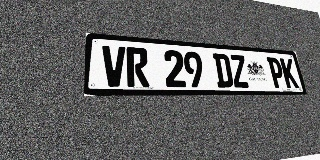2: (163, 50, 186, 87)
9: (183, 51, 205, 87)
D: (213, 53, 234, 88)
K: (280, 58, 299, 88)
P: (266, 57, 286, 88)
R: (126, 47, 150, 87)
V: (102, 45, 126, 87)
Z: (229, 54, 250, 88)
